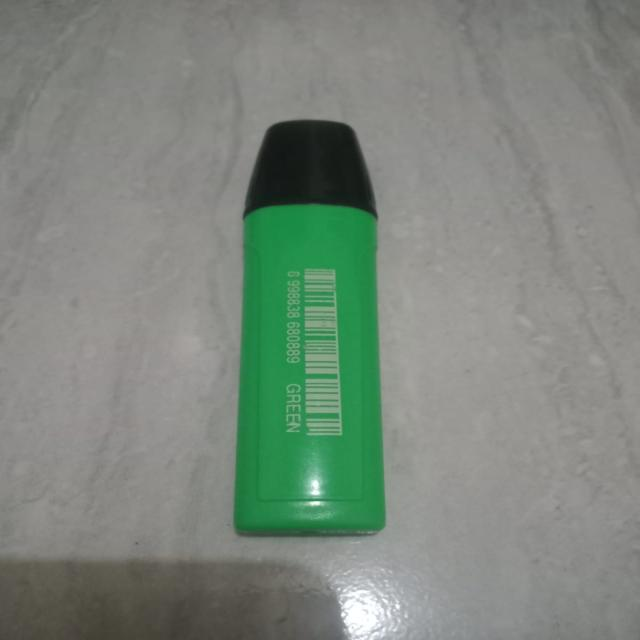highlighter: (206, 100, 422, 574)
